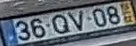0: (91, 7, 107, 28)
3: (14, 19, 31, 42)
6: (29, 17, 46, 39)
8: (105, 5, 120, 25)
Q: (50, 13, 71, 35)
V: (65, 8, 84, 33)
